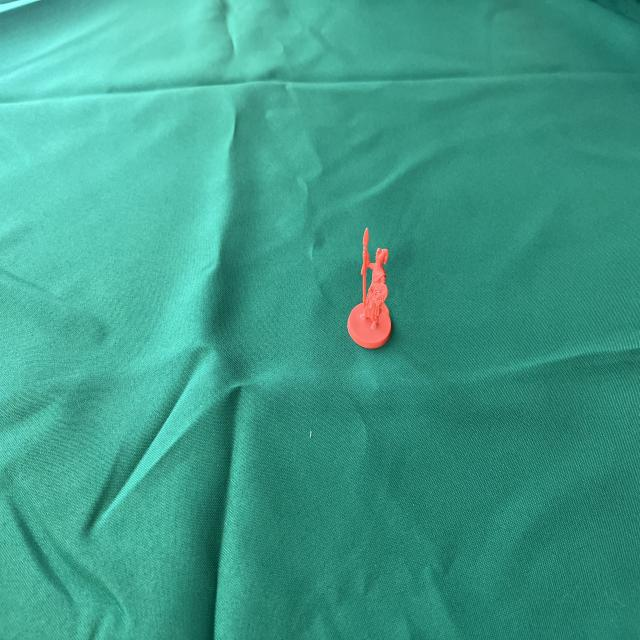amon_follower: (348, 228, 391, 348)
